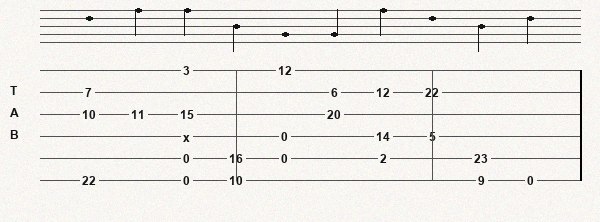0: (183, 174, 194, 187), (183, 152, 194, 165), (281, 130, 292, 143), (281, 152, 292, 165), (527, 174, 538, 187)
10: (82, 108, 100, 121), (229, 174, 247, 187)
11: (131, 108, 149, 121)
12: (278, 64, 296, 77), (376, 86, 394, 99)
14: (376, 130, 394, 143)
15: (180, 108, 198, 121)
16: (229, 152, 247, 165)
2: (380, 152, 391, 165)
20: (327, 108, 345, 121)
22: (82, 174, 100, 187), (425, 86, 443, 99)
23: (474, 152, 492, 165)
3: (183, 64, 194, 77)
5: (429, 130, 440, 143)
6: (331, 86, 342, 99)
7: (85, 86, 96, 99)
9: (478, 174, 489, 187)
x: (183, 131, 194, 142)
